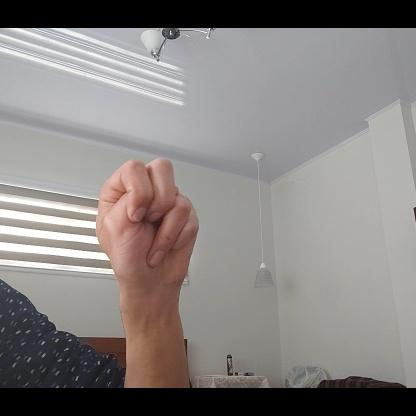N: (96, 155, 199, 293)
